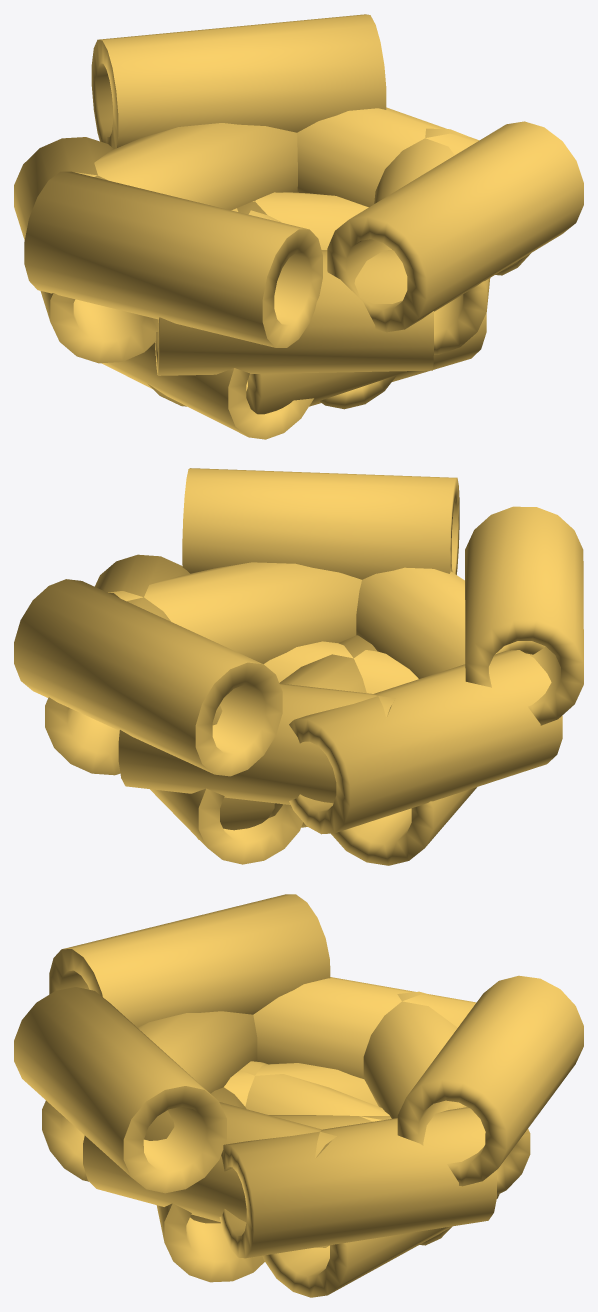
Rendered from dry-pasta.glb.
3 views of the same model, one above another, from view 1: azimuth 30°, elevation 25°; view 2: azimuth 150°, elevation 25°; view 3: azimuth 270°, elevation 25° (orthographic). The views are drawn at different scales.
Visible parts, largest first — view 1: dry-pasta_mesh; view 2: dry-pasta_mesh; view 3: dry-pasta_mesh.
Part boxes in pixels (<box>): dry-pasta_mesh: <box>14,14,583,439</box>; dry-pasta_mesh: <box>14,468,583,865</box>; dry-pasta_mesh: <box>14,894,583,1297</box>.
Size of the model in its own units: 0.2164 by 0.0942 by 0.2204.
